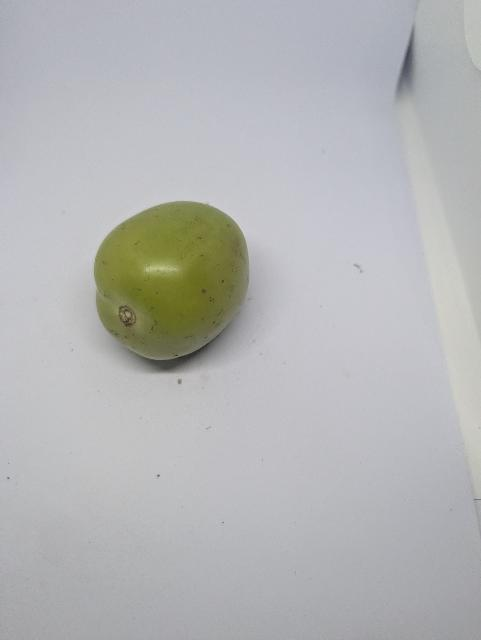green: (92, 198, 253, 364)
